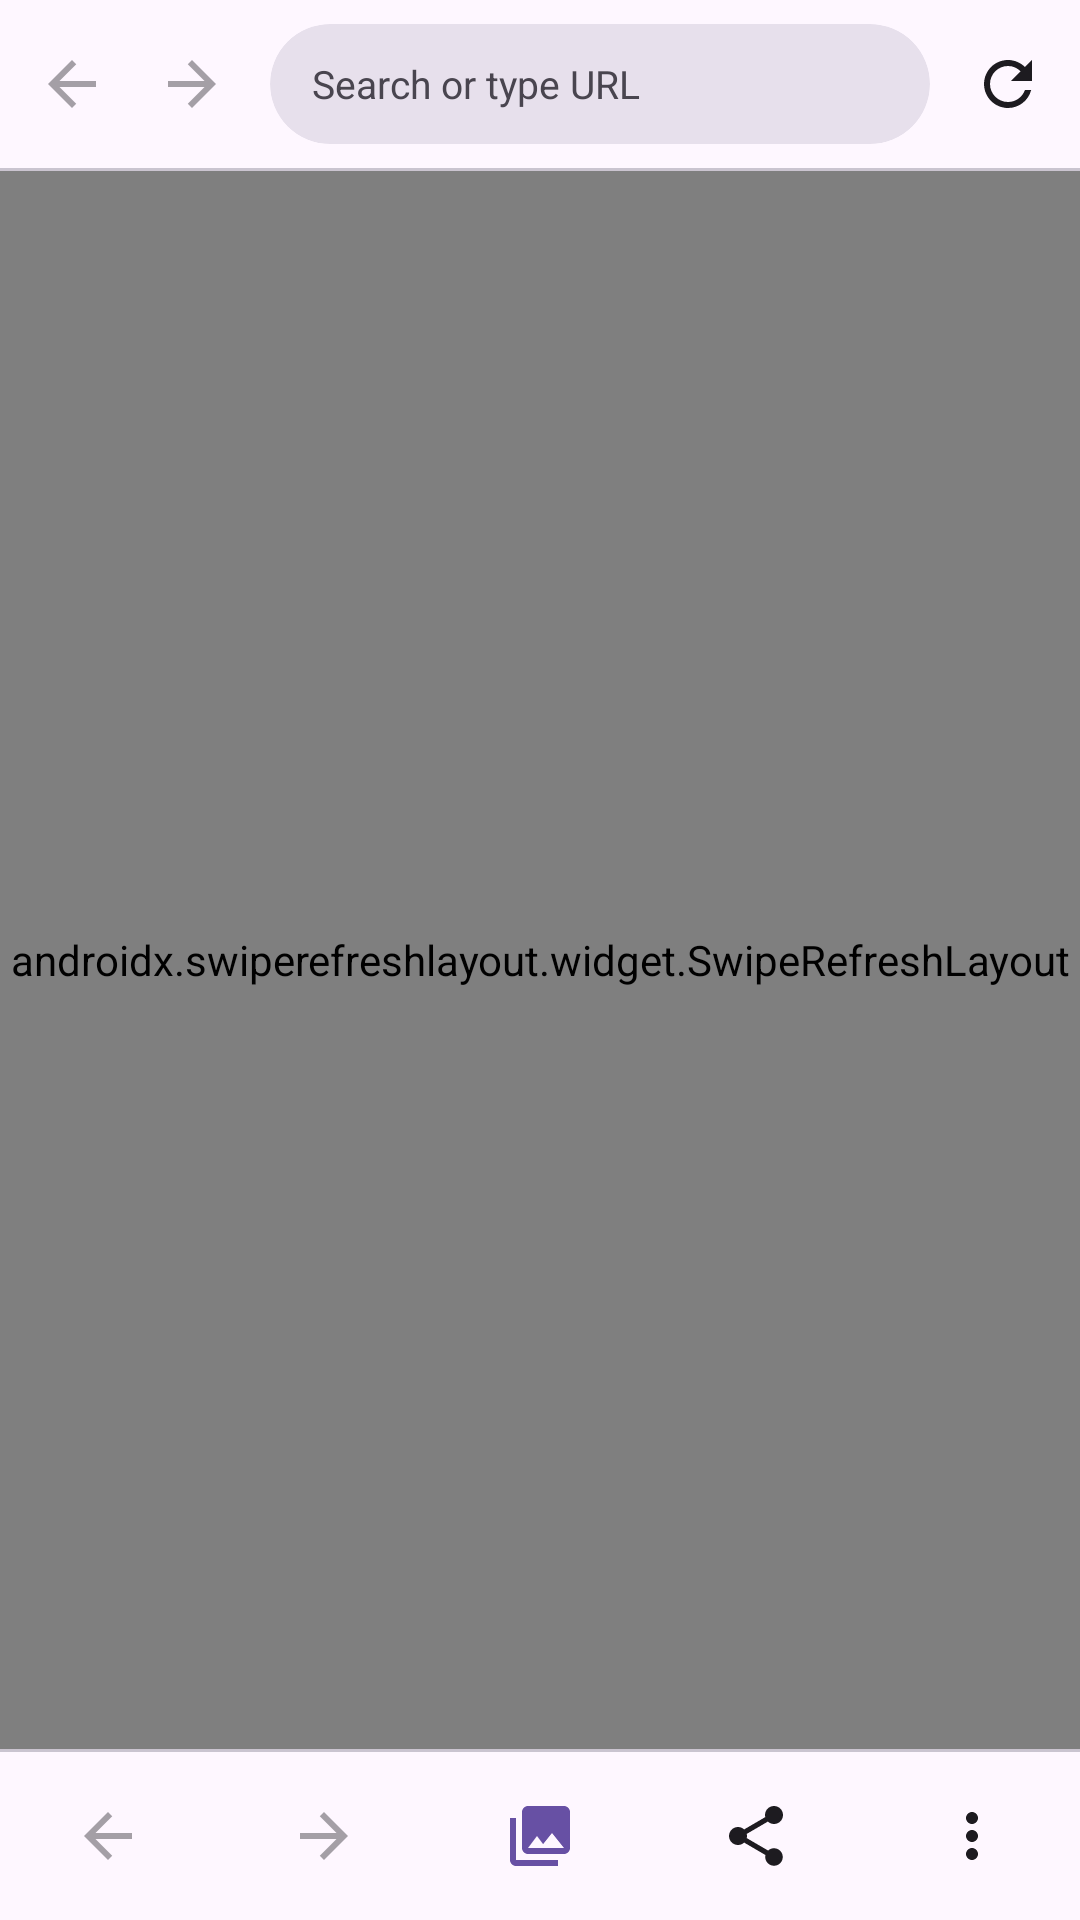

Icon bounding boxes for this 1080x1920 phone screenshot, format (x1, y1, x2, y2):
Back: (48, 60, 96, 108), (84, 1812, 132, 1860)
Forward: (168, 60, 216, 108), (300, 1812, 348, 1860)
Gallery: (510, 1806, 570, 1866)
Menu: (966, 1812, 978, 1860)
Share: (729, 1806, 783, 1866)
